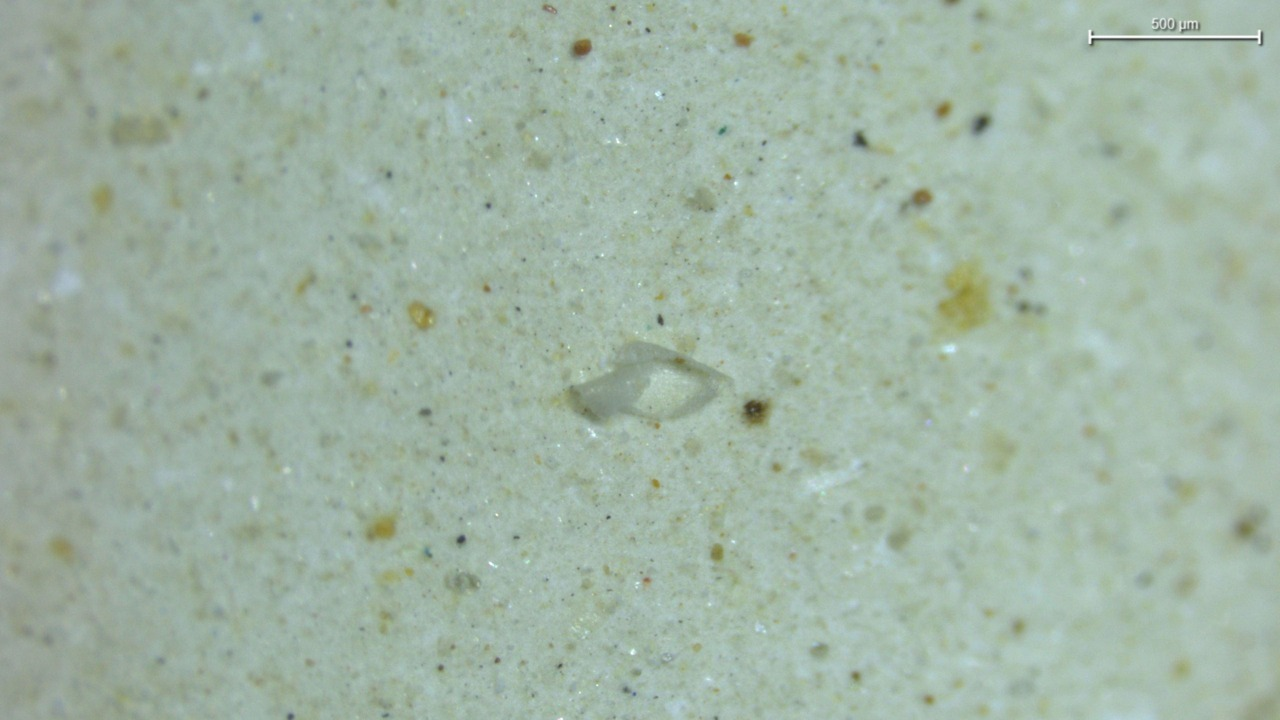microplastic_fragment: (570, 342, 730, 421)
